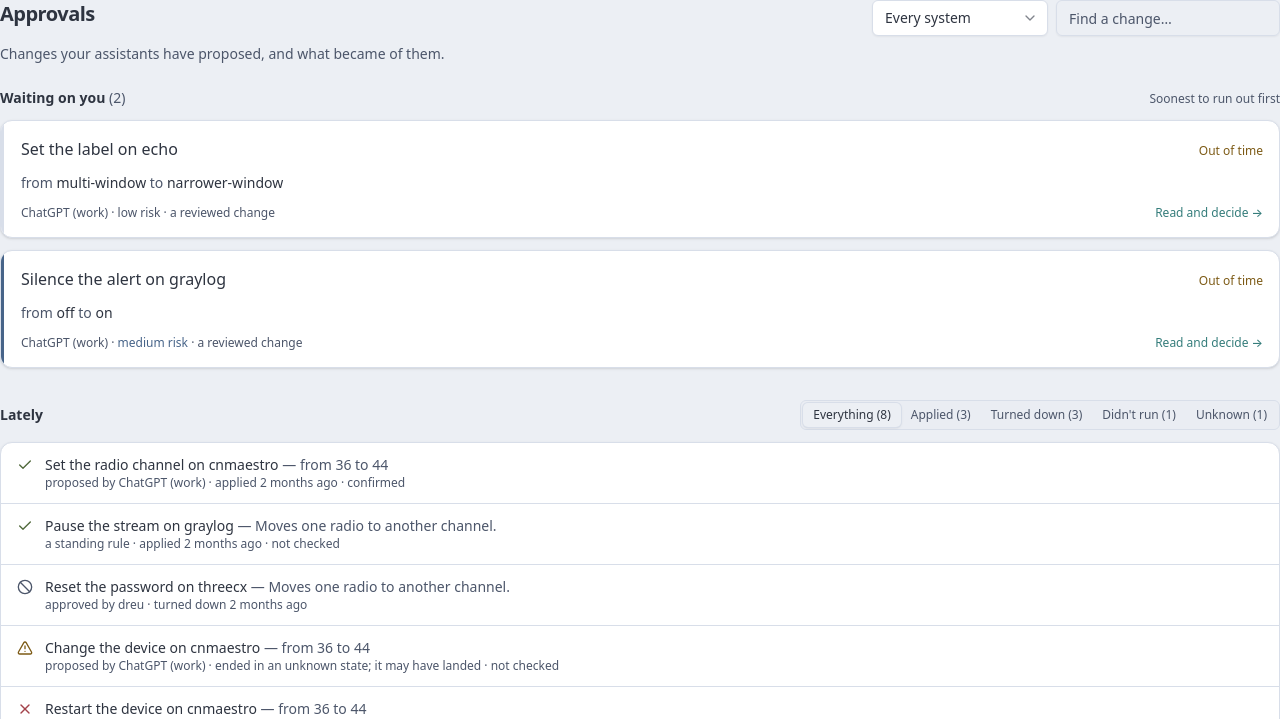
Test case: cutting the list › narrows to one system, in the address
The width and height of the screenshot is (1280, 719).
Select "graylog" in the dropdown named "System" at (960, 18), box x1=872 y1=0 x2=1048 y2=36
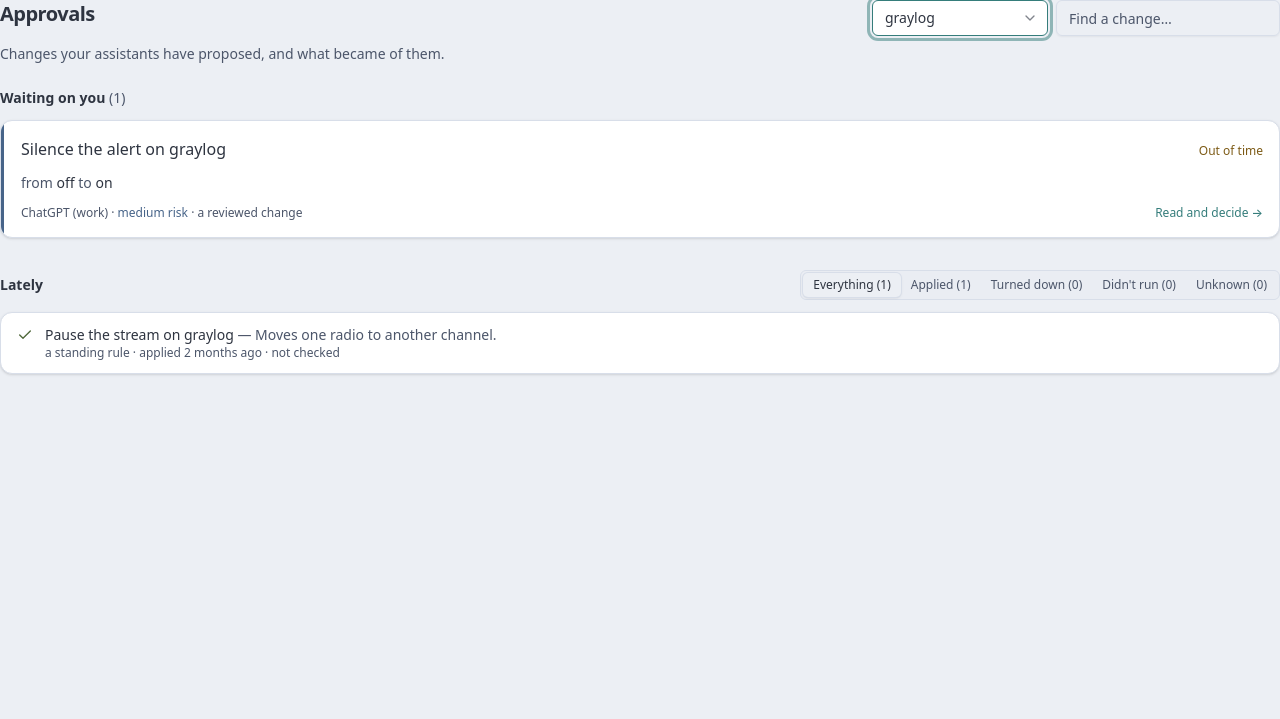
Expected: the heading "Silence the alert on graylog" is shown, x1=21 y1=137 x2=226 y2=161
Expected: the link "Set the label on echo" is gone
